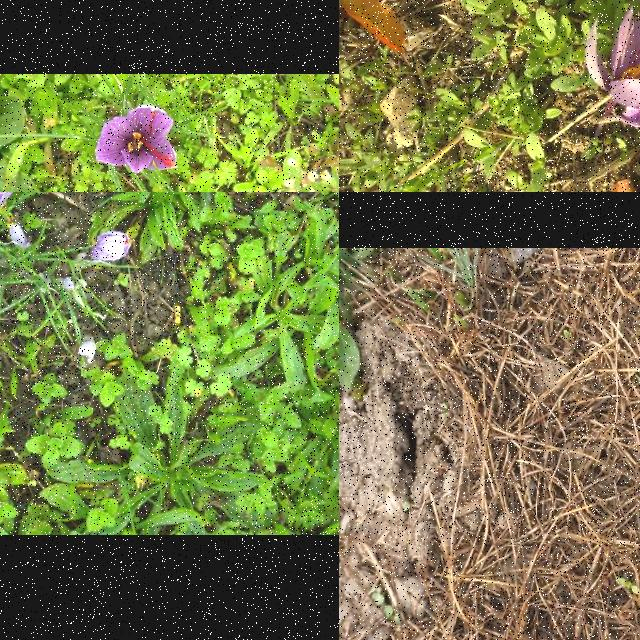flower: (584, 0, 640, 128), (95, 104, 179, 174), (88, 230, 132, 262), (9, 221, 31, 249), (78, 340, 98, 364), (0, 192, 15, 210)
